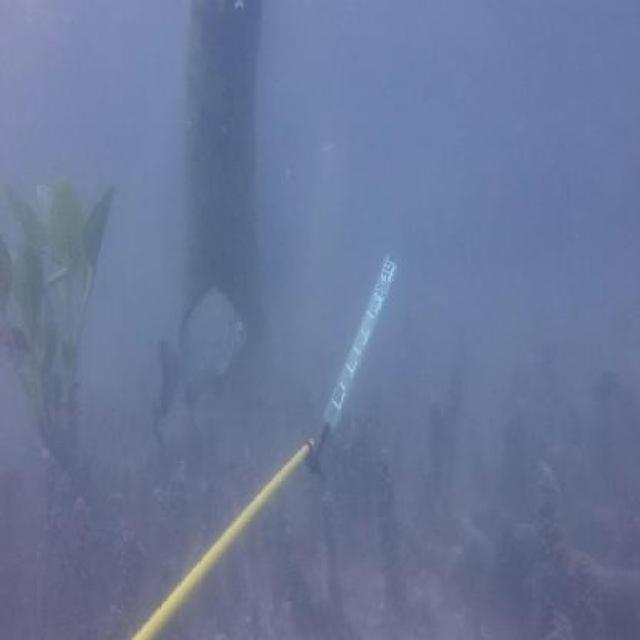acanthopagrus_palmaris: (148, 278, 252, 432)
